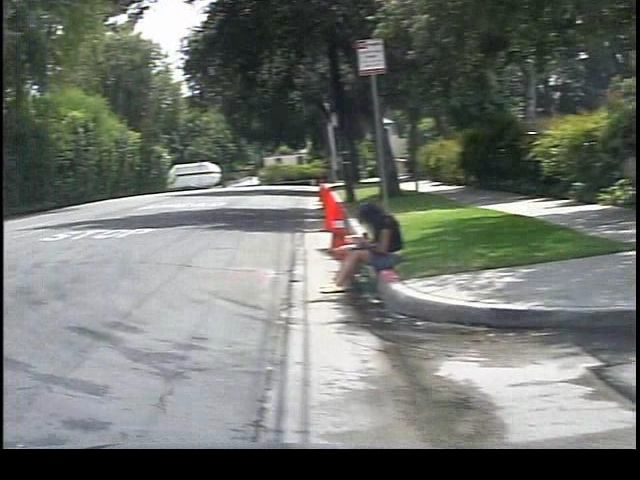person: (299, 198, 391, 296)
